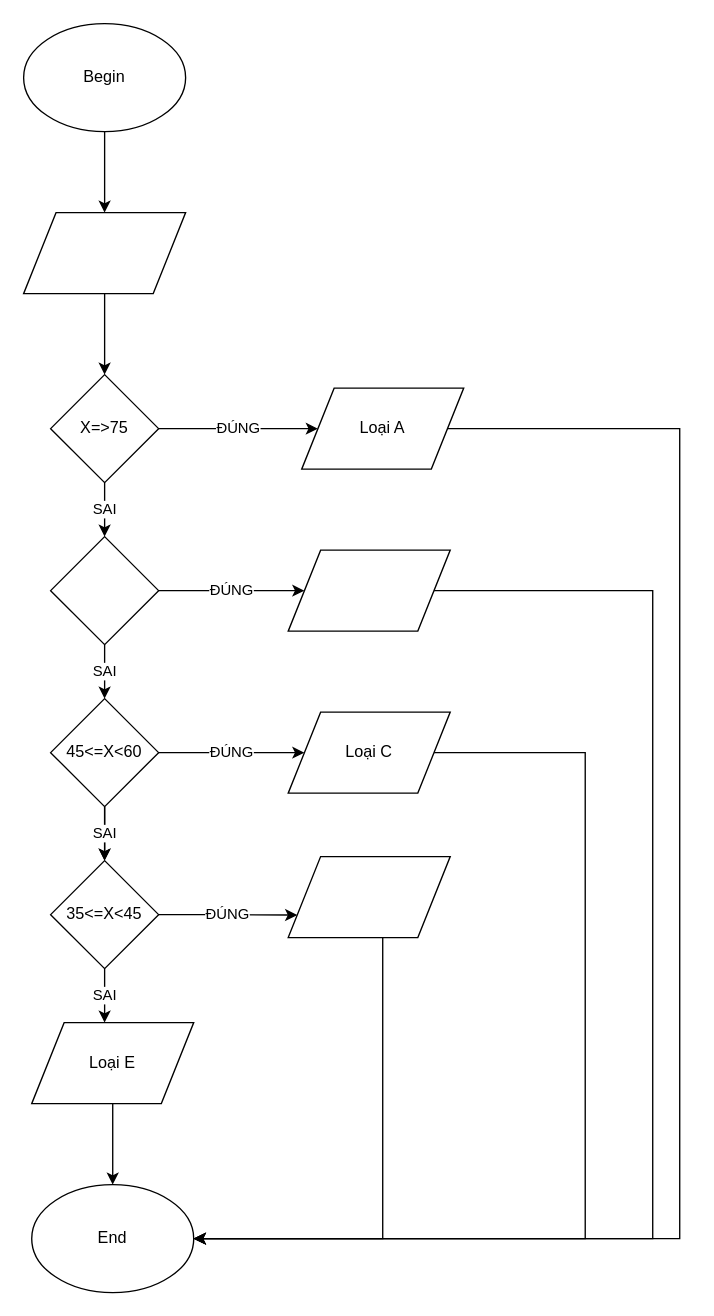
Image size: 714x1316. Some labels were removed from this diagram. Each missing label, with the centre of its shape:
"60<=X<75" belongs at [104,590].
"Loại B" belongs at [368,590].
"Loại D" belongs at [368,896].
"X là điểm số của học viên" belongs at [104,252].
